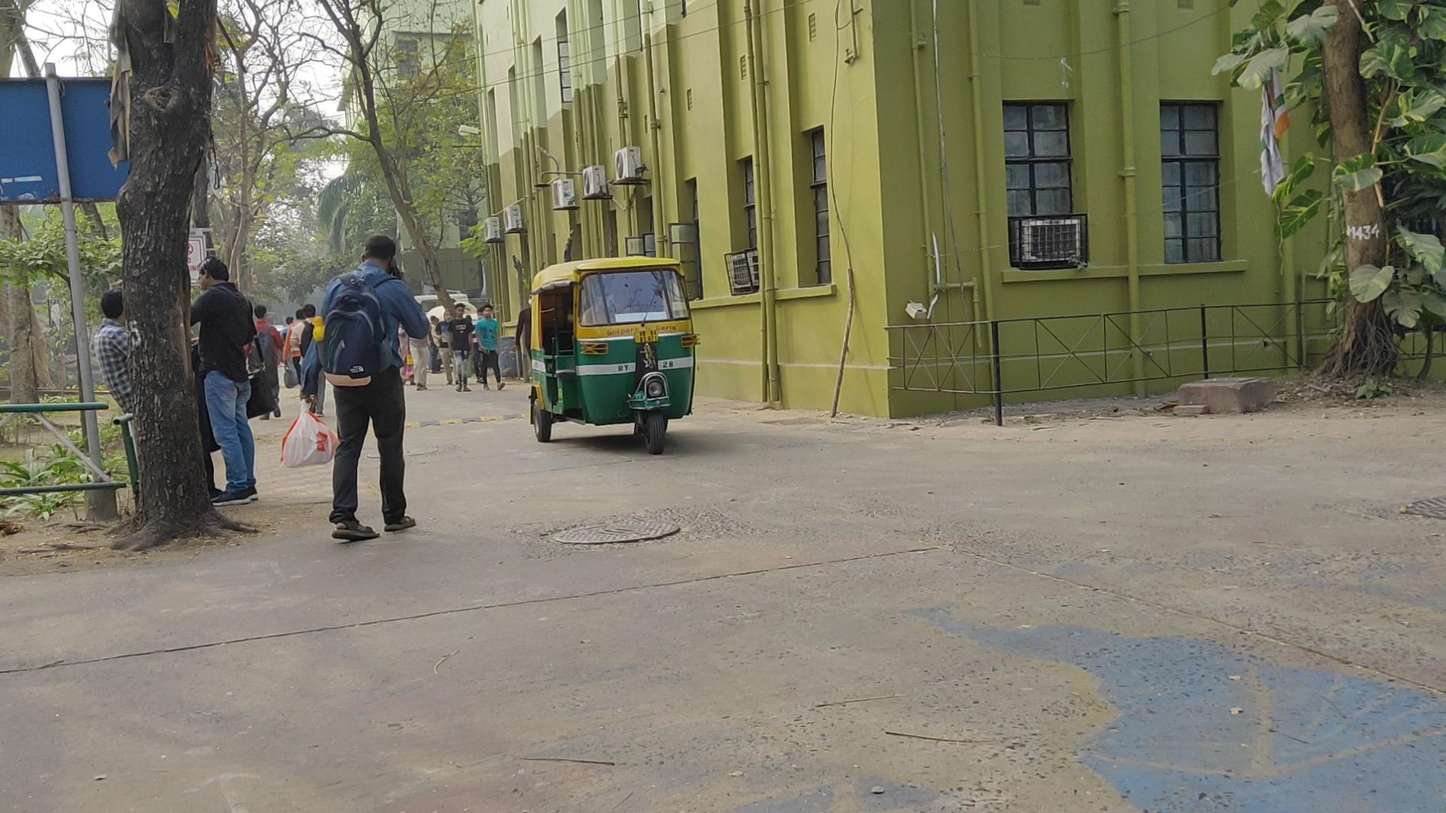Auto: (529, 254, 700, 454)
